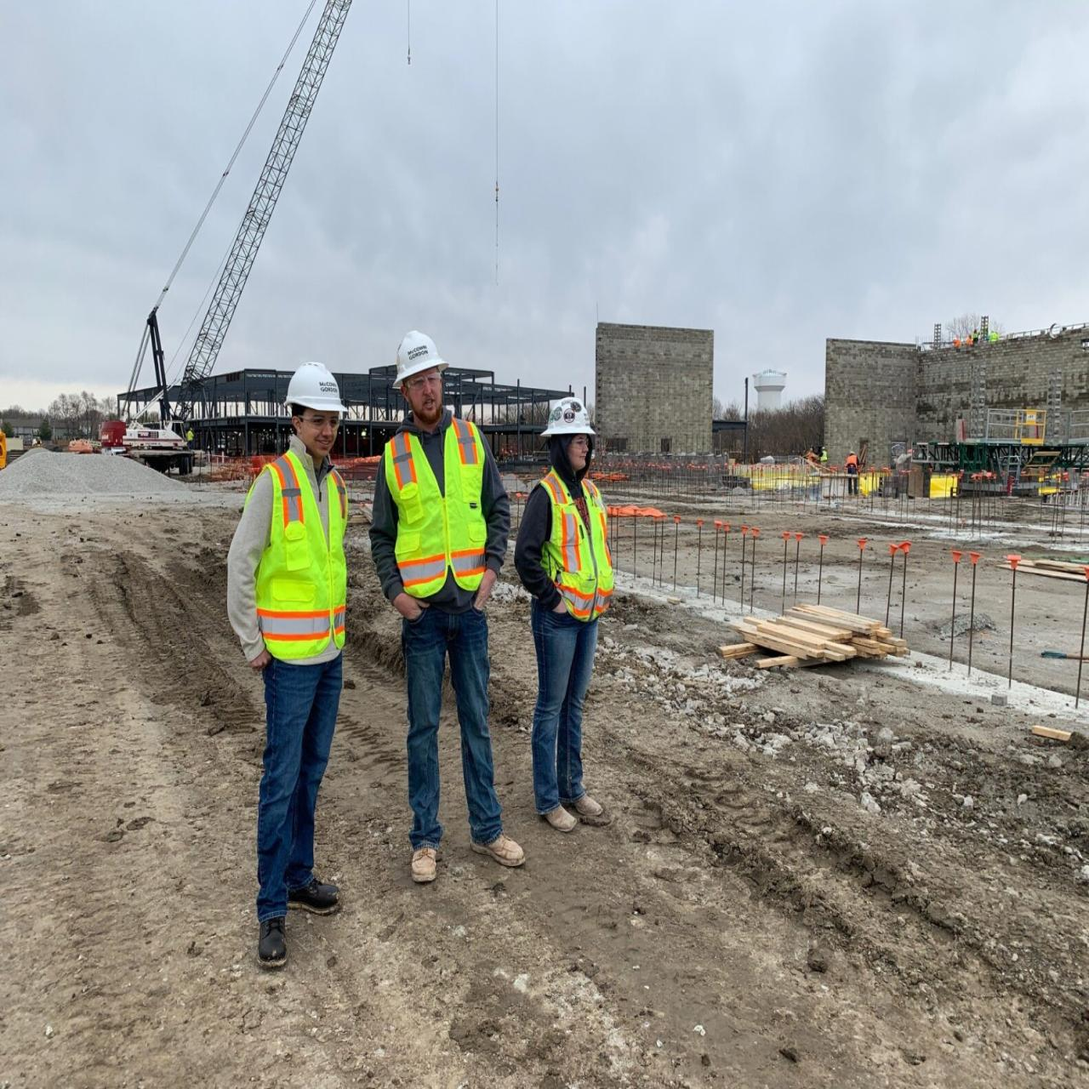Person: (362, 321, 536, 892), (209, 352, 355, 976), (516, 382, 610, 841)
Safety_Vest: (240, 450, 351, 665), (380, 415, 494, 607), (535, 474, 611, 627)
